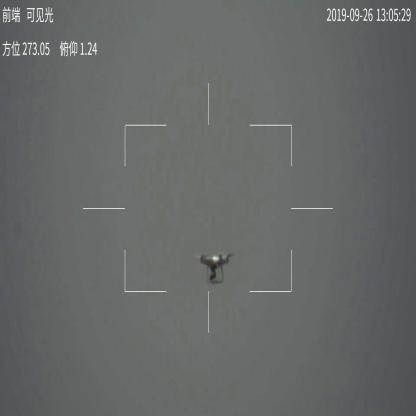uav: (195, 250, 238, 285)
